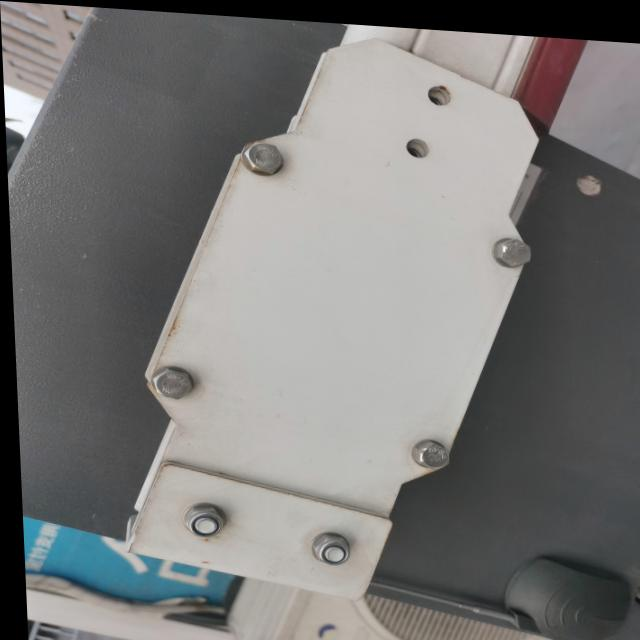Missing bolt: (402, 128, 435, 155), (426, 75, 453, 107)
Regular bolt: (180, 501, 223, 536), (241, 137, 283, 172), (148, 365, 191, 398), (307, 530, 346, 561), (411, 435, 448, 465), (495, 230, 532, 260)
